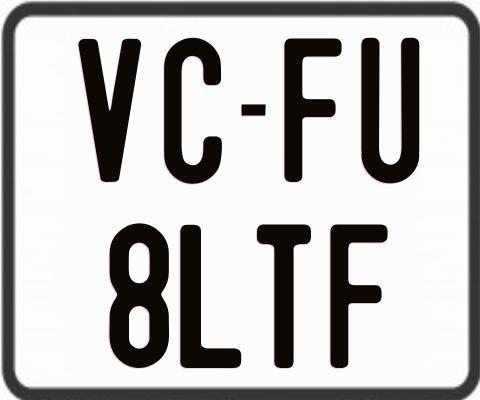8: (108, 221, 168, 372)
C: (162, 38, 225, 188)
F: (329, 221, 391, 368), (282, 38, 343, 184)
L: (178, 225, 242, 373)
T: (254, 224, 311, 369)
U: (360, 35, 424, 181)
V: (76, 36, 143, 185)
